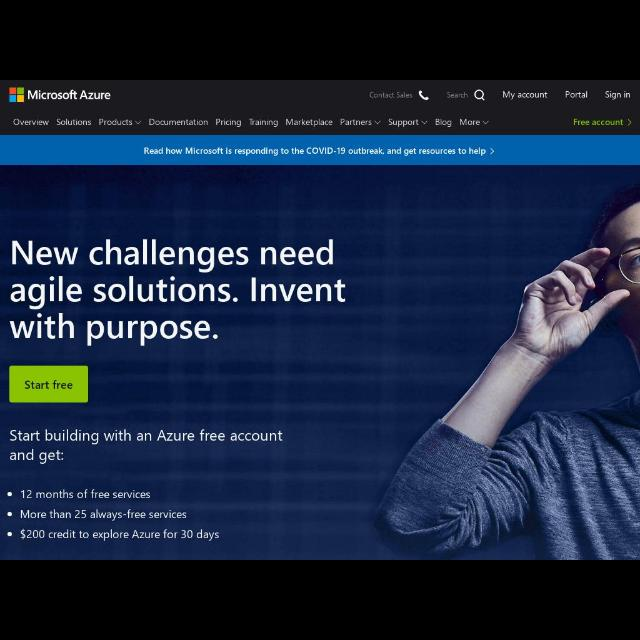backgroundimage: (1, 166, 639, 560)
icon: (474, 89, 486, 101), (418, 90, 430, 100), (626, 119, 632, 128), (134, 120, 142, 126), (482, 120, 490, 126), (376, 118, 382, 125), (422, 120, 428, 126), (490, 146, 494, 154), (8, 510, 12, 518), (7, 492, 13, 496), (7, 532, 13, 536)
spinner: (96, 117, 142, 129), (338, 116, 382, 128), (387, 119, 428, 128), (459, 119, 489, 129)
text: (10, 240, 348, 342), (10, 429, 282, 463), (21, 528, 220, 542), (145, 148, 487, 156), (21, 510, 188, 522), (20, 490, 152, 502), (366, 88, 414, 102), (573, 116, 623, 128), (502, 88, 548, 100), (24, 381, 74, 392), (148, 118, 208, 126), (286, 118, 334, 126), (12, 118, 50, 128), (56, 118, 92, 128), (388, 119, 419, 128), (98, 118, 132, 126), (339, 118, 373, 126), (604, 90, 630, 100), (216, 118, 242, 128), (249, 119, 277, 128), (434, 118, 454, 128), (566, 91, 588, 99), (459, 119, 481, 127), (448, 92, 468, 98)
textbutton: (10, 366, 88, 402)
toolbar: (1, 82, 639, 136)
